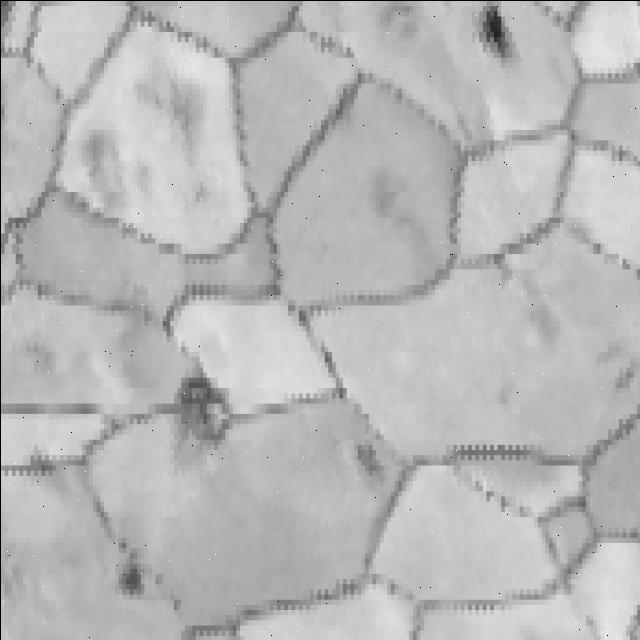good_void: (134, 68, 210, 171), (77, 124, 131, 209), (176, 374, 233, 448), (580, 333, 636, 391), (475, 1, 509, 56), (352, 440, 389, 483), (117, 558, 144, 591), (34, 458, 54, 472)
